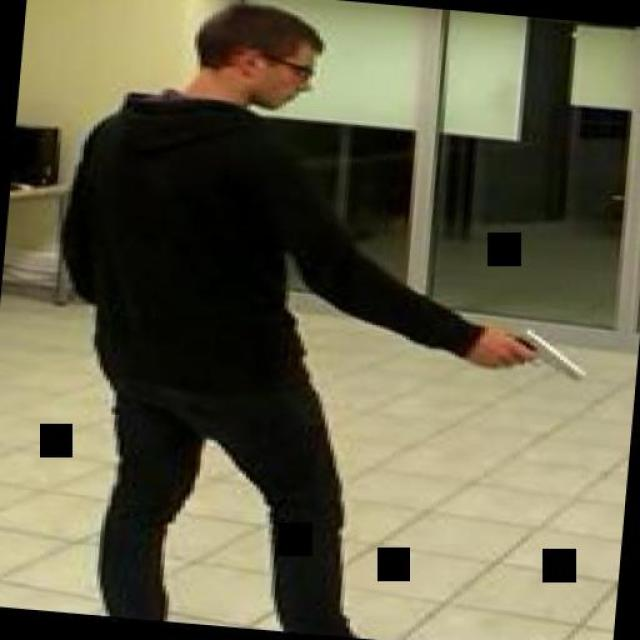gun: (476, 318, 590, 382)
